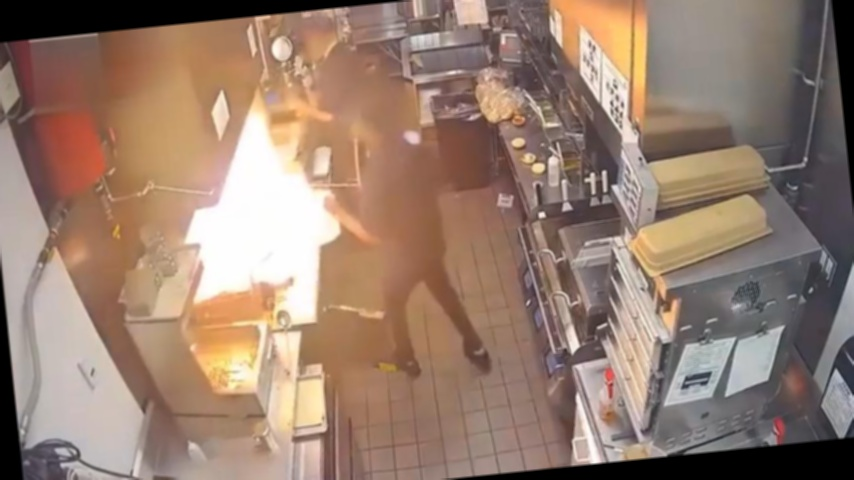fire: (140, 81, 362, 341)
